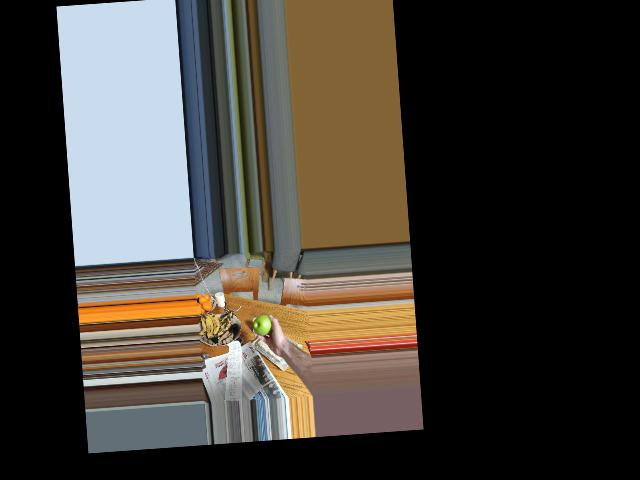apple: (253, 313, 275, 337)
